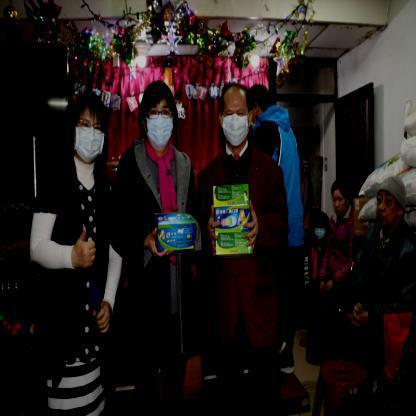with_mask: (132, 75, 184, 152), (64, 86, 109, 165), (219, 79, 255, 149), (309, 208, 331, 248)
without_mask: (372, 180, 410, 233), (328, 178, 354, 220)
